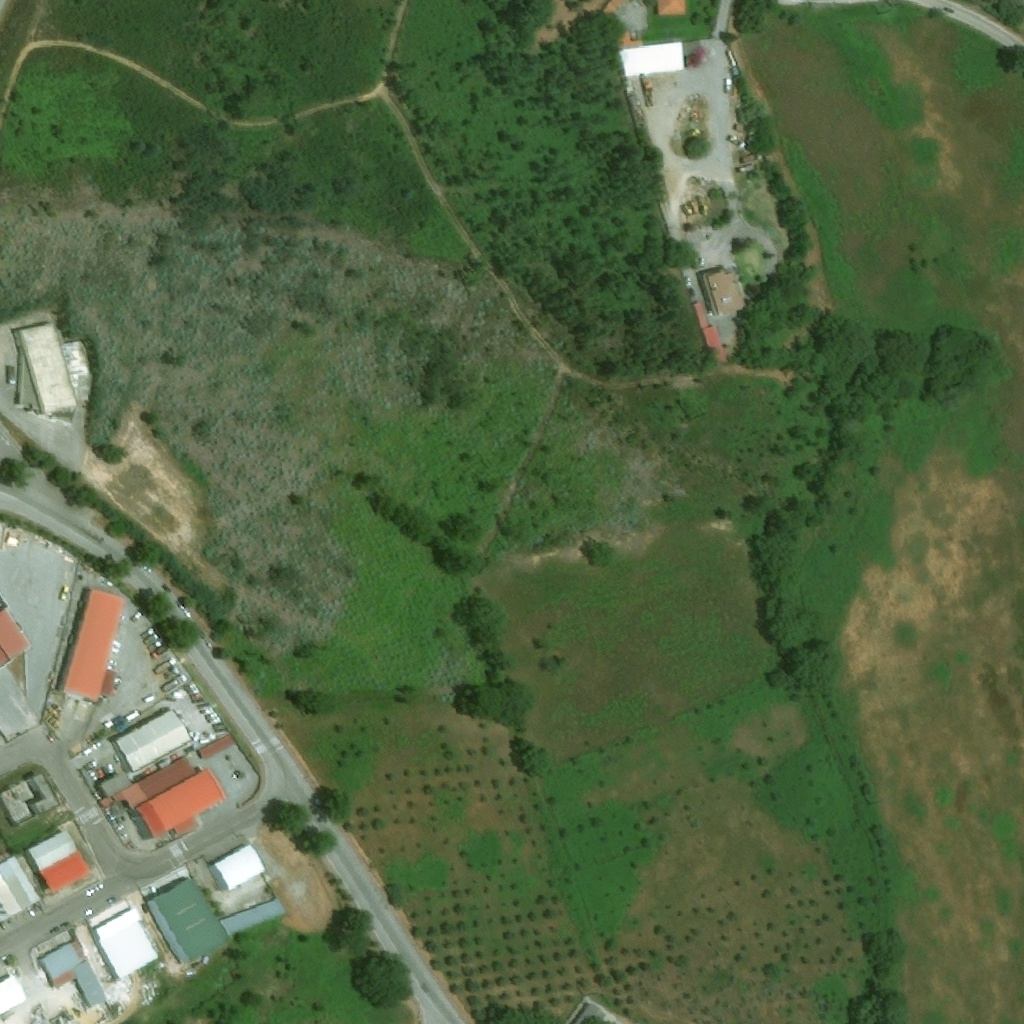0 no-damage: (144, 876, 287, 967), (96, 755, 227, 839), (37, 924, 133, 1016), (55, 586, 127, 703), (13, 321, 93, 414), (112, 708, 193, 772), (94, 906, 161, 979), (24, 825, 92, 896), (0, 772, 60, 826), (615, 31, 683, 76), (207, 843, 267, 893), (0, 855, 42, 924), (700, 265, 747, 316), (692, 301, 728, 364), (0, 605, 32, 672), (16, 346, 43, 414), (0, 974, 27, 1016), (198, 733, 238, 760)
4 un-classified: (570, 1002, 609, 1023), (657, 0, 686, 16), (600, 0, 627, 17)
